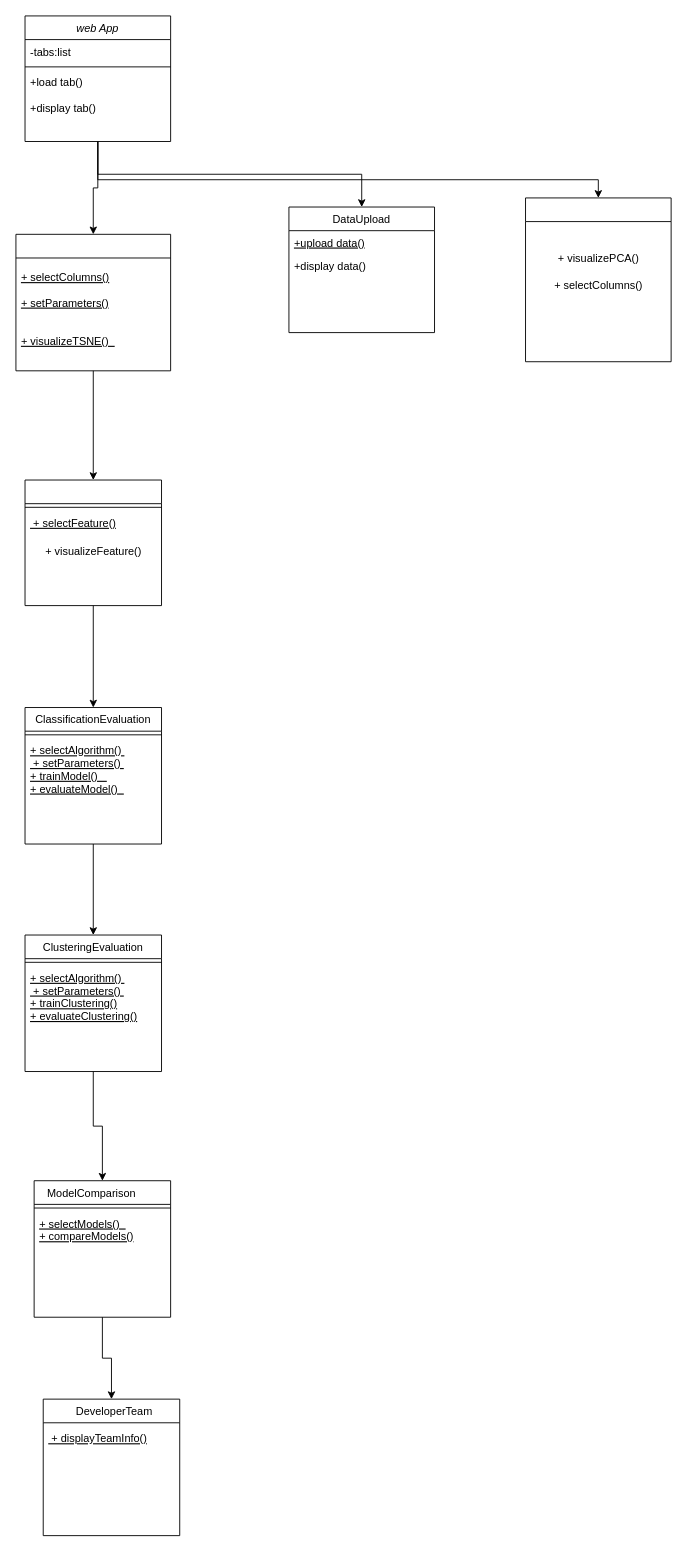
Image size: 687x1552. Some labels were removed from this diagram. Here are the shapes that lost their labels. From the top down, the box of each, then its label:
(525, 197, 671, 362): PCAAnalysis
(15, 233, 171, 371): TSNEAnalysis
(24, 479, 162, 606): FeatureVisualization
